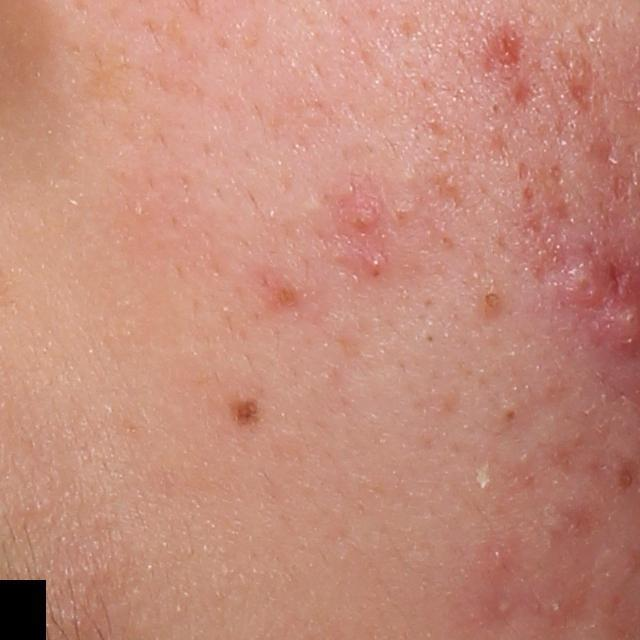atrophic_scar: (547, 43, 597, 117), (536, 163, 576, 226), (586, 119, 617, 179), (510, 64, 542, 111), (602, 250, 632, 294), (519, 208, 545, 234), (521, 185, 539, 212), (516, 159, 528, 182)
comedo: (478, 280, 512, 313), (390, 201, 418, 228), (498, 402, 523, 425), (616, 464, 637, 491), (487, 100, 505, 119), (420, 330, 439, 347)
nevus: (225, 397, 260, 426)
papule: (542, 260, 604, 304), (333, 193, 385, 239), (360, 249, 388, 278)
